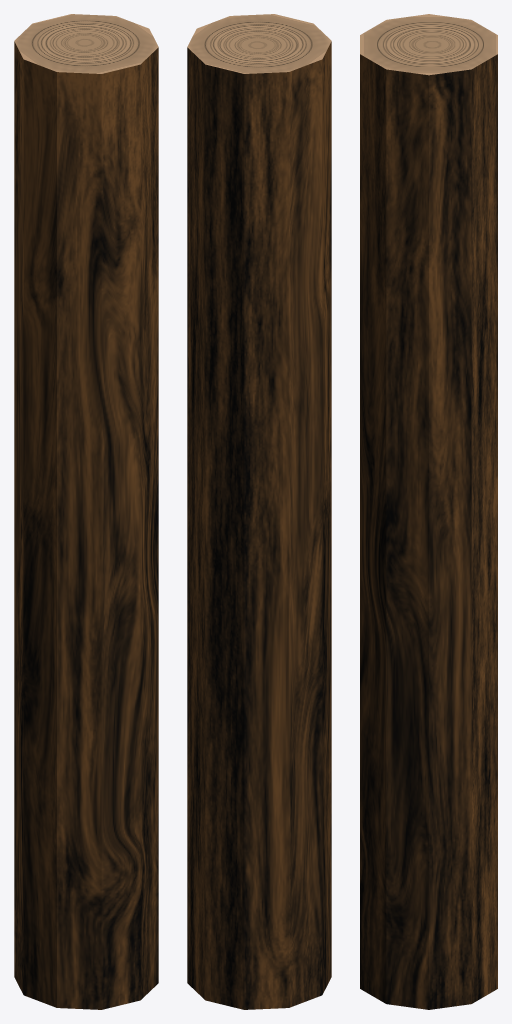
File: log.fbx
The picture shows the model from 3 angles, left to right: view 1: azimuth 30°, elevation 25°; view 2: azimuth 150°, elevation 25°; view 3: azimuth 270°, elevation 25°; orthographic projection.
Parts seen in each view (by area): view 1: log; view 2: log; view 3: log.
Part boxes in pixels (left/top/right/bottom): log: left=14, top=14, right=158, bottom=1009; log: left=187, top=14, right=331, bottom=1009; log: left=360, top=14, right=497, bottom=1009.
Bounding box in the file's own units: 3.19 × 22.66 × 3.03.
